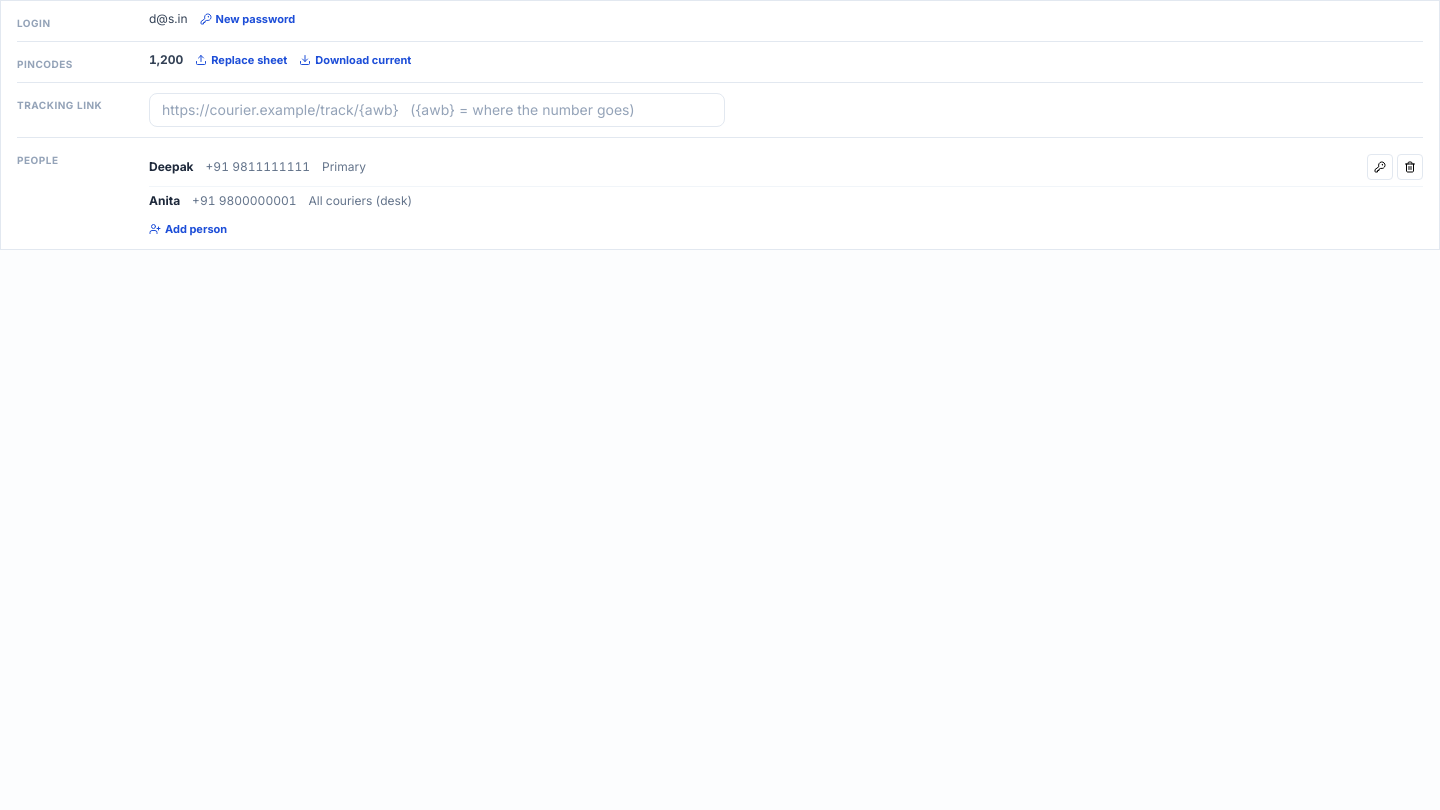
Test: LineCard › "New password" asks first (it signs the courier out), then shows the new login right there
Click the button "New password" at [247, 19], box [200,11,295,27]
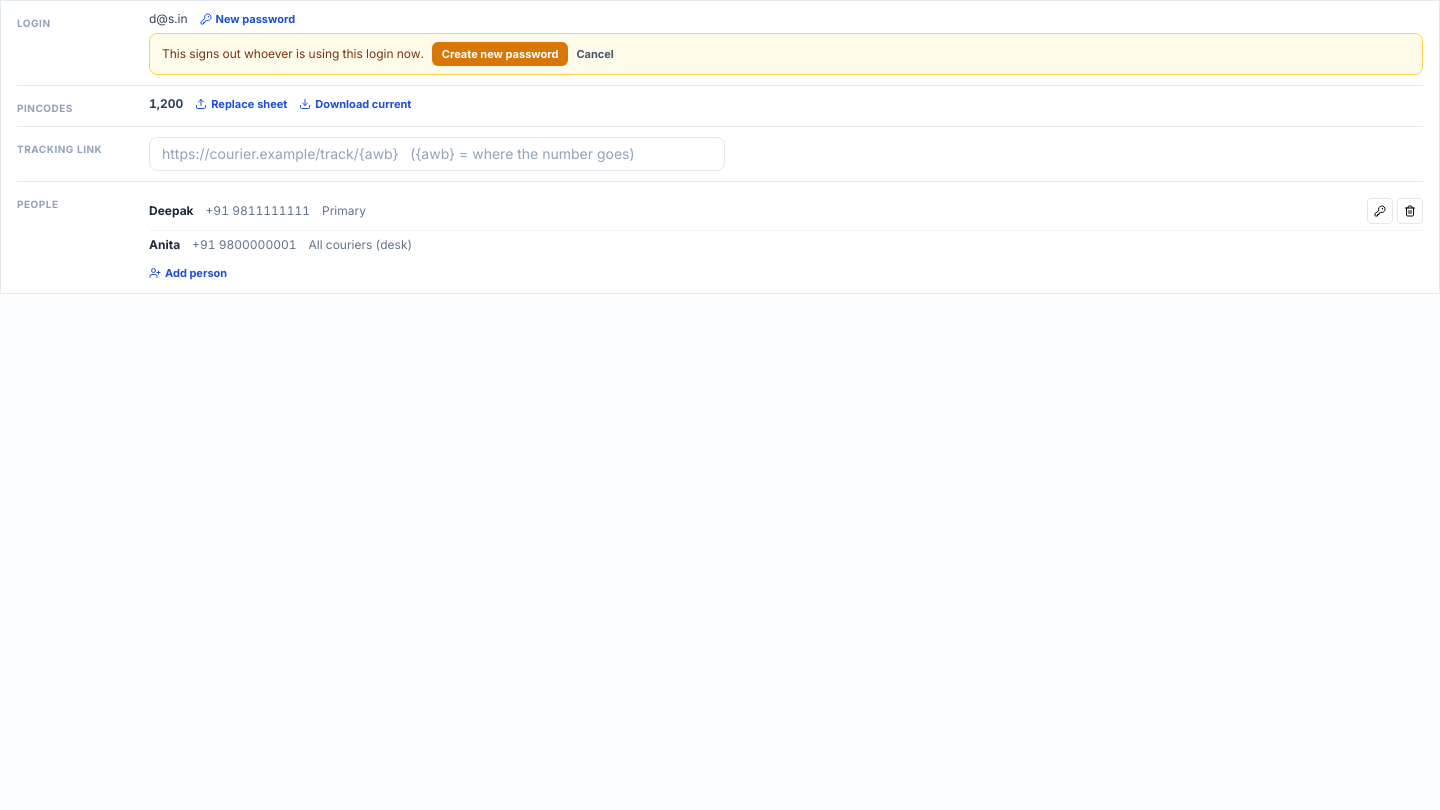
Result: the text "This signs out whoever is using this login now." is shown at [162,46,424,62]
Click the button "Create new password" at [500, 54], box [432,42,568,66]
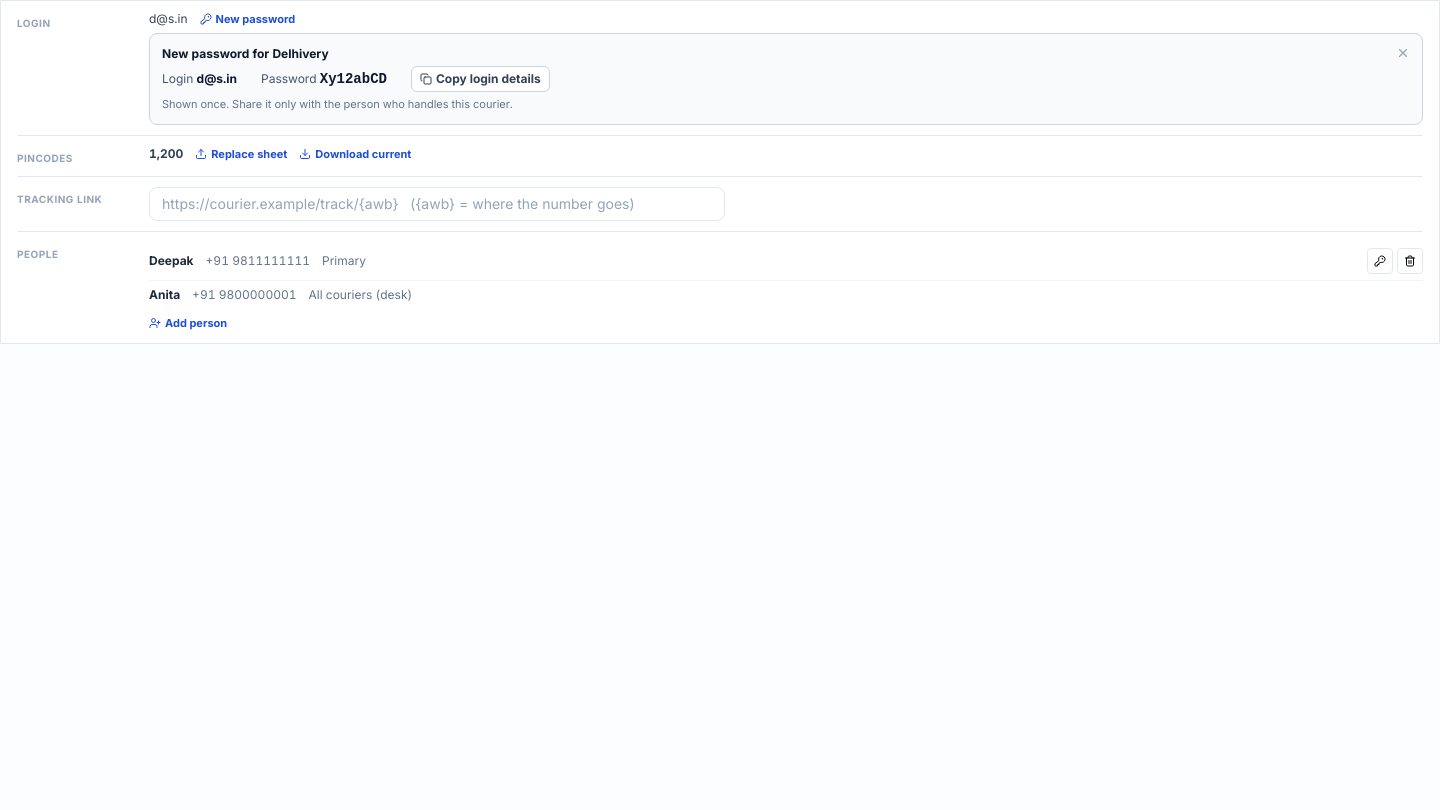
Result: the text "Xy12abCD" is shown at [320,71,387,87]
Result: the button "Copy login details" is shown at [411,66,550,92]
